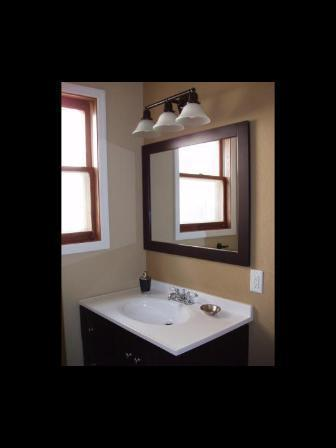Lavamanos: (110, 284, 203, 330)
